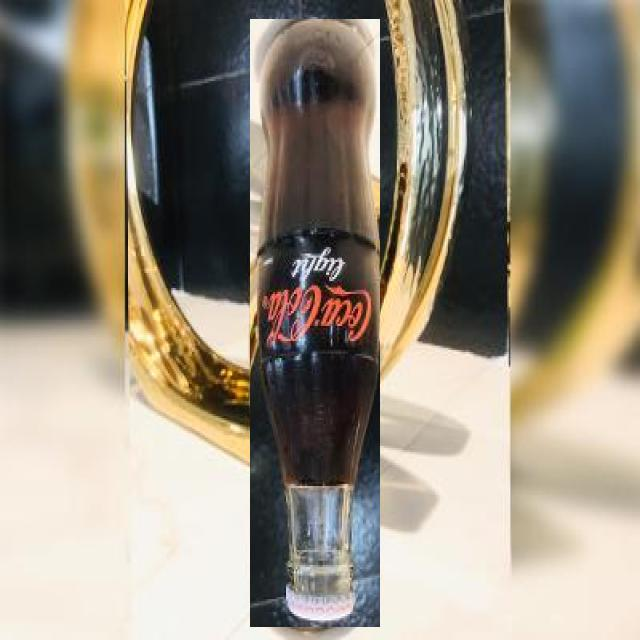coca-cola: (250, 19, 380, 627)
